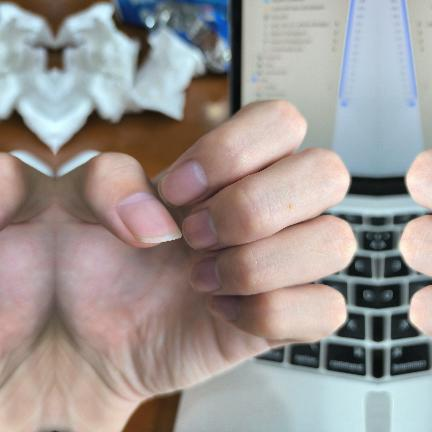Nail: (116, 193, 181, 243), (157, 160, 207, 208), (181, 209, 217, 250), (188, 254, 221, 292), (204, 296, 239, 319)
